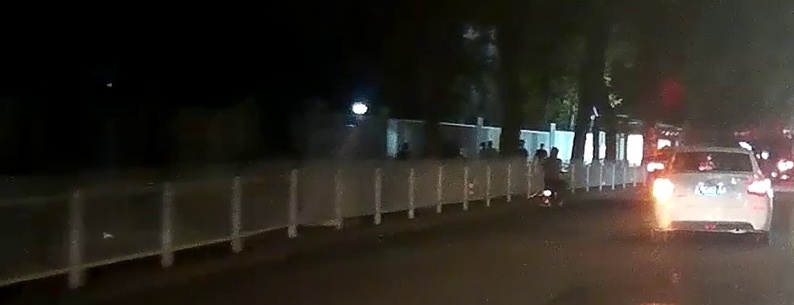L_light: (651, 178, 675, 193)
R_light: (748, 178, 771, 195)
T_light: (703, 164, 720, 170)
night-left: (647, 144, 775, 244)
